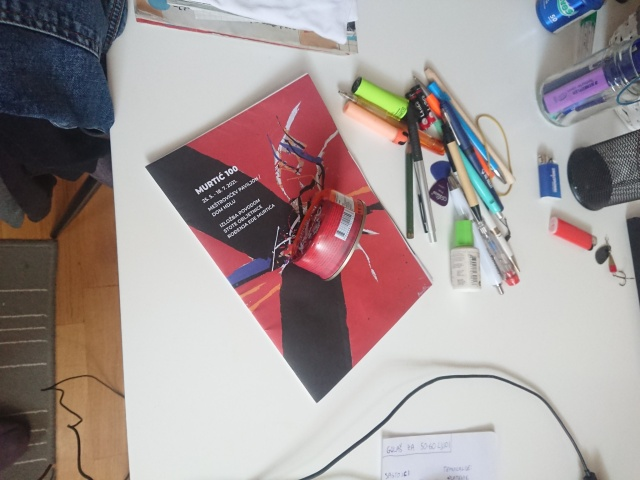Gavrilovic Pork Liver Pate 100g: (288, 186, 369, 284)
